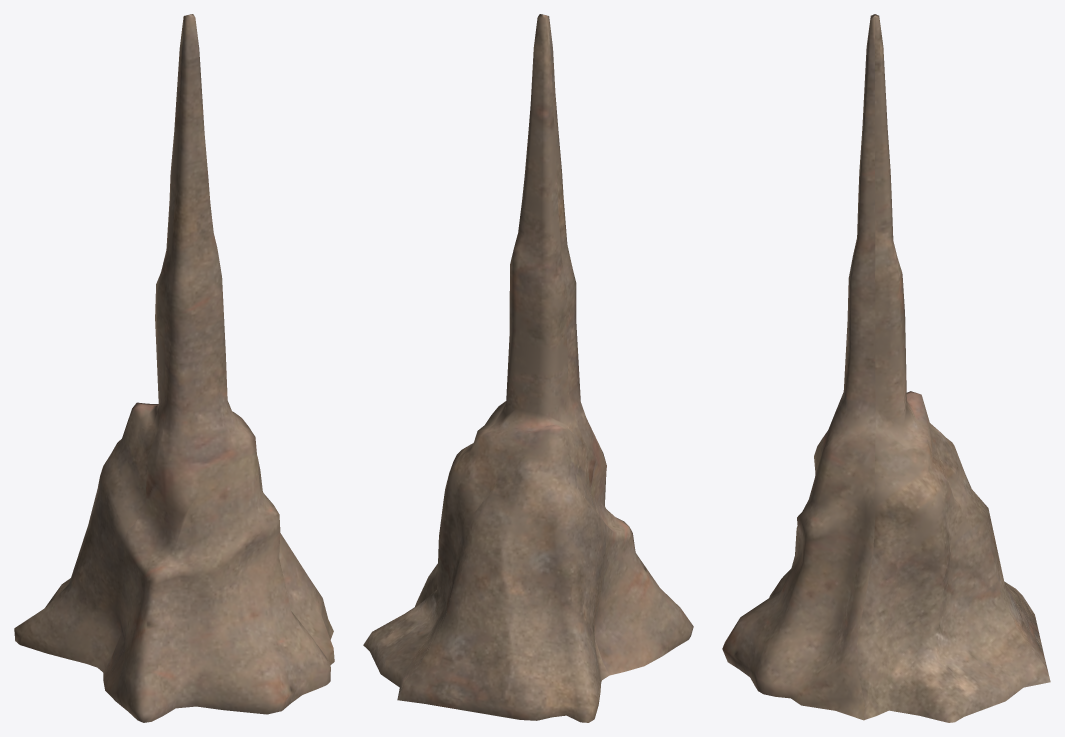
File: stallattite2 1.fbx
The picture shows the model from 3 angles, left to right: view 1: azimuth 30°, elevation 25°; view 2: azimuth 150°, elevation 25°; view 3: azimuth 270°, elevation 25°; orthographic projection.
Parts seen in each view (by area): view 1: stallattite2; view 2: stallattite2; view 3: stallattite2.
Part boxes in pixels (left/top/right/bottom): stallattite2: left=14, top=14, right=334, bottom=722; stallattite2: left=363, top=14, right=693, bottom=722; stallattite2: left=722, top=14, right=1050, bottom=722.
Size of the model in its own units: 17.44 by 42.18 by 19.68.
